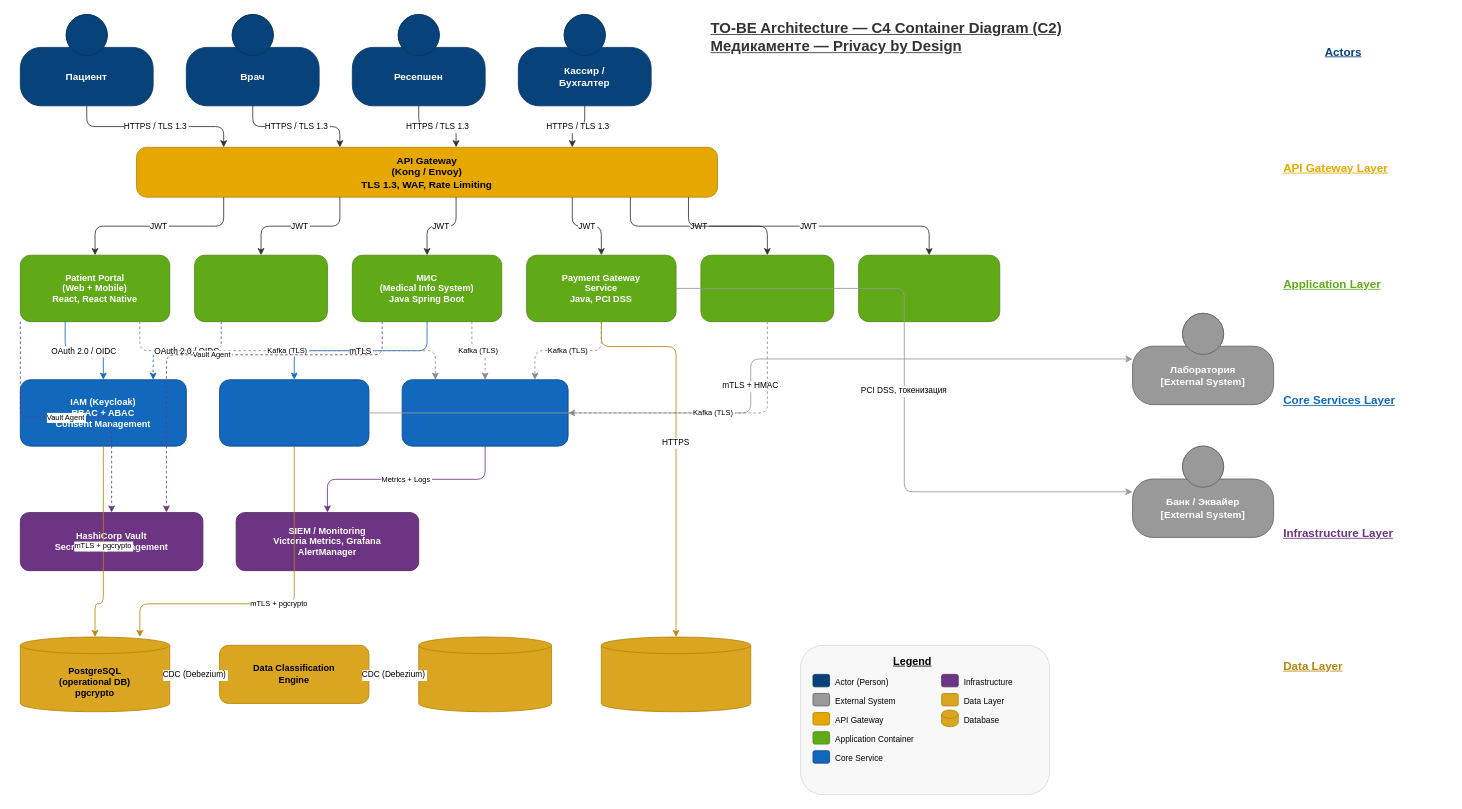
Image size: 1462x809. Some labels were removed from this diagram. The centre of each missing label's shape, as x and y in pixels:
Audit Log Service Kafka → Elasticsearch: the point at 484,412
ClickHouse Data Lake: the point at 485,674
CRM Service Java Spring Boot: the point at 767,288
ERP / 1С серверный режим PostgreSQL: the point at 676,674
Lab Integration Service mTLS, OAuth2: the point at 294,412
Notification Service SMS / Push / Voice: the point at 929,288
Reception Portal React: the point at 260,288
